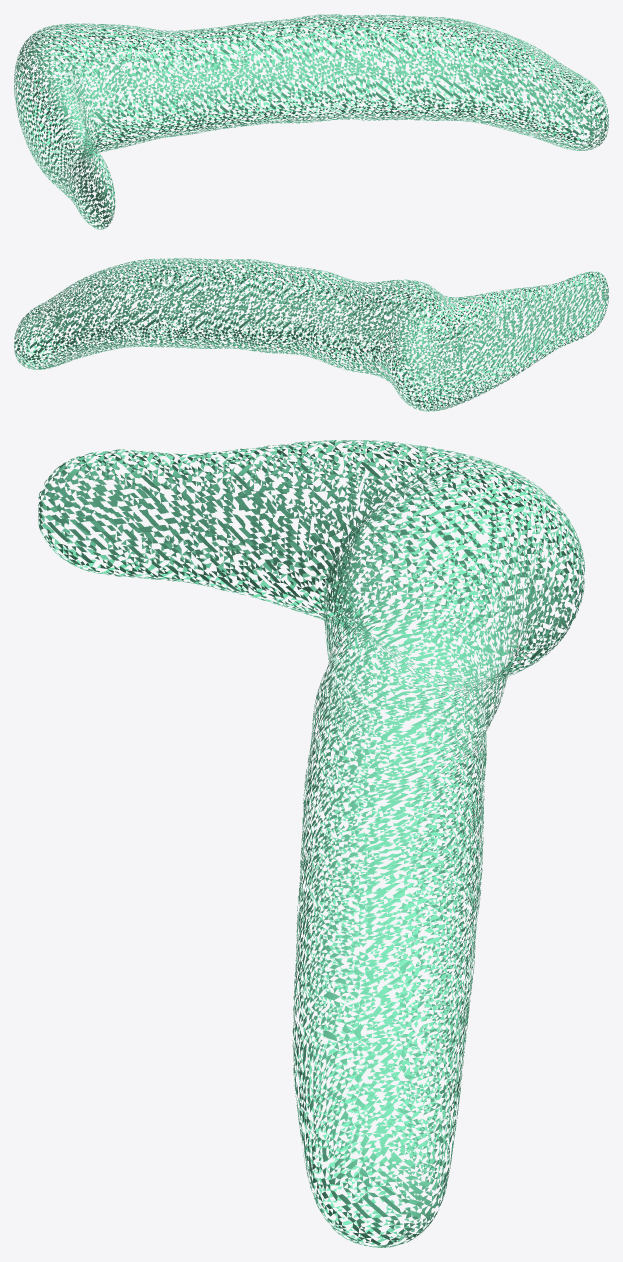
The model's file is healthy.glb.
The picture shows the model from 3 angles, top to bottom: view 1: azimuth 30°, elevation 25°; view 2: azimuth 150°, elevation 25°; view 3: azimuth 270°, elevation 25°; orthographic projection. The views are drawn at different scales.
Size of the model in its own units: 136 by 47.4 by 63.61.
